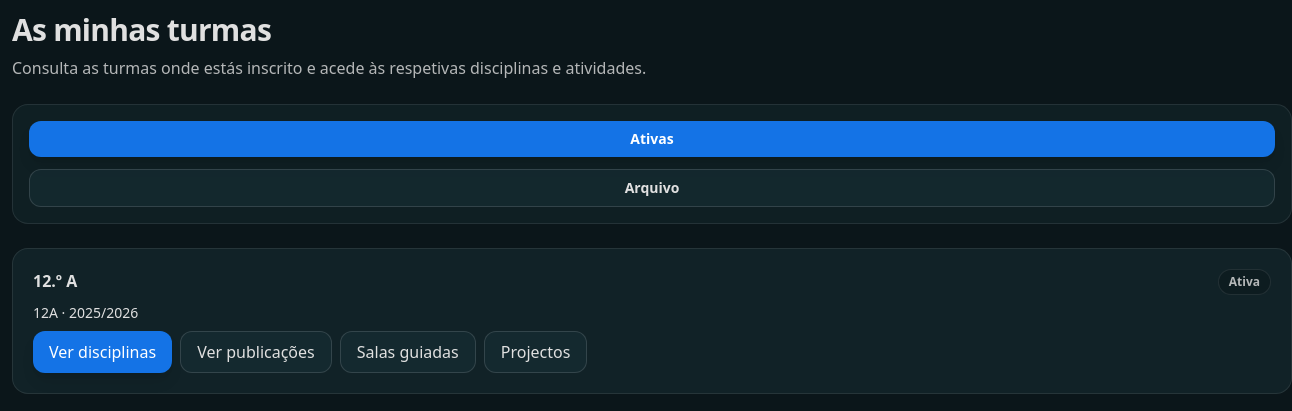
Test case: paridade professor → aluno › separa turmas ativas do arquivo sem expor colegas
Check: the heading "12.º A" is shown, box [33, 269, 77, 293]
Click the button "Arquivo" at (652, 188), box [29, 169, 1275, 207]
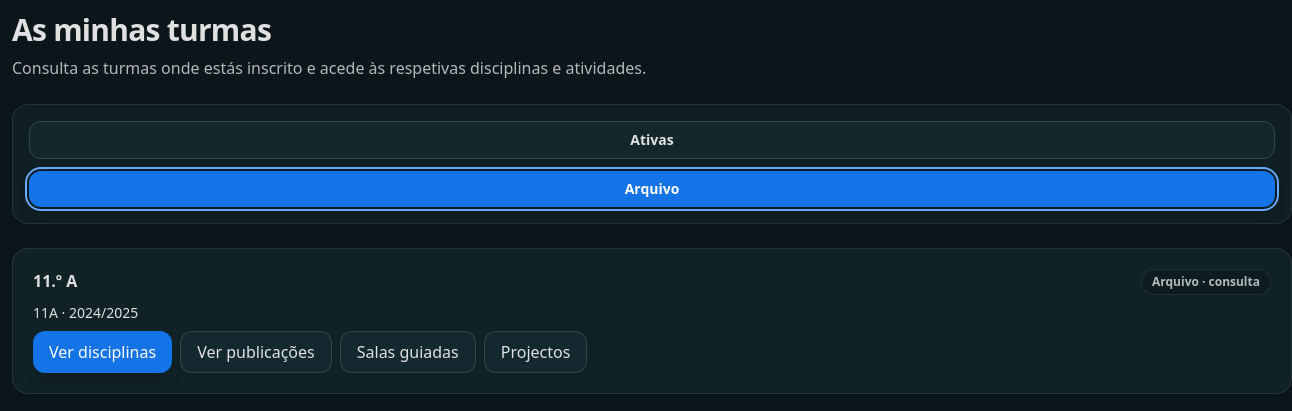
Check: the heading "11.º A" is shown, box [33, 269, 77, 293]
